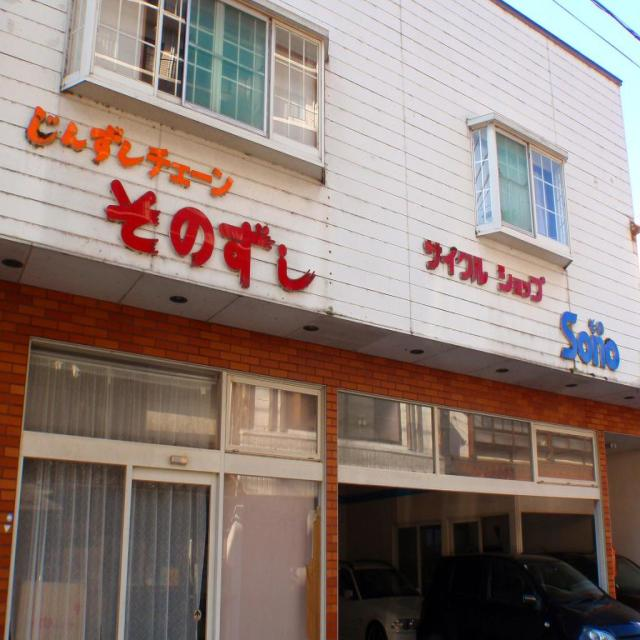car: (417, 552, 612, 630)
